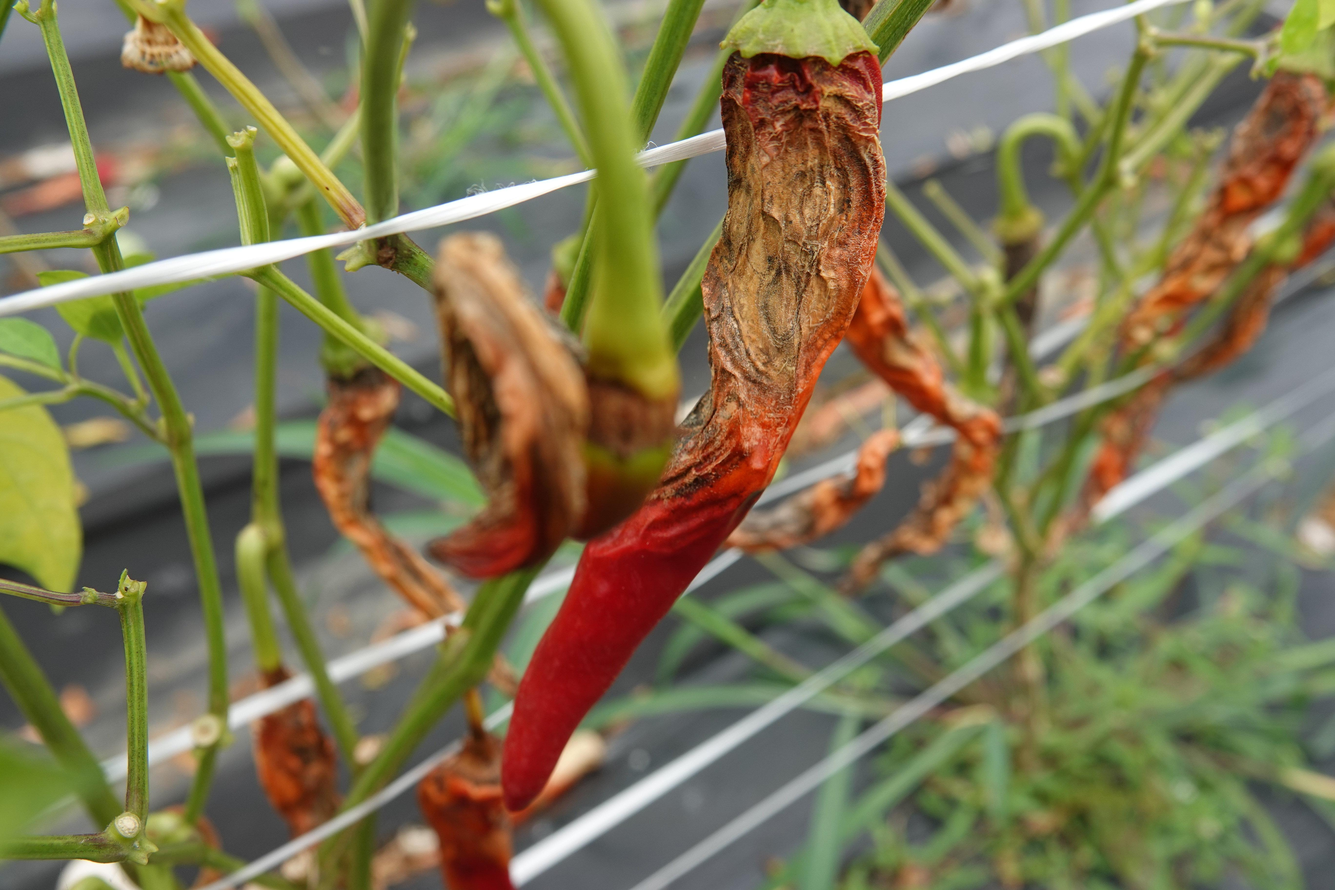Busuk Buah Antraknosa: (495, 2, 891, 815)
